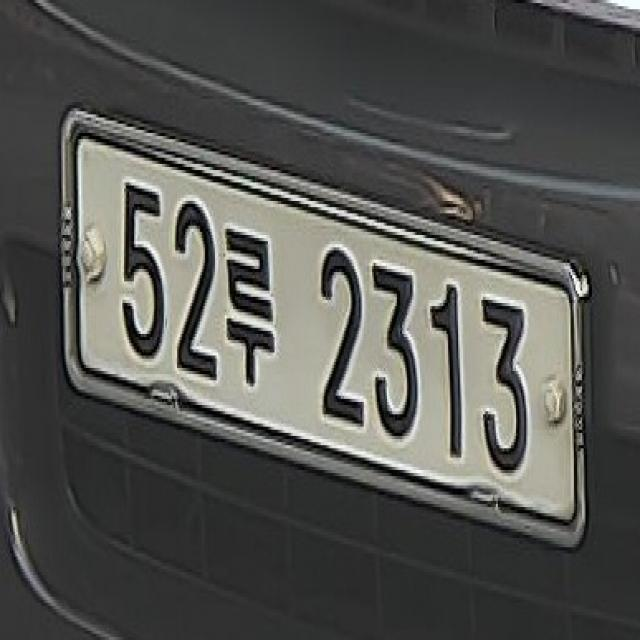1: (428, 284, 464, 462)
2: (314, 240, 366, 446), (172, 194, 220, 388)
3: (470, 284, 528, 481), (372, 260, 419, 440)
5: (114, 166, 168, 376)
license_plate: (50, 96, 606, 569)
lu: (224, 216, 278, 397)
